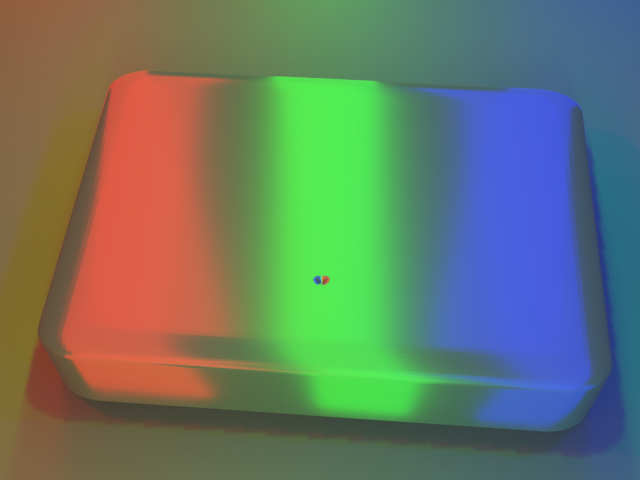dent: (301, 266, 336, 305)
